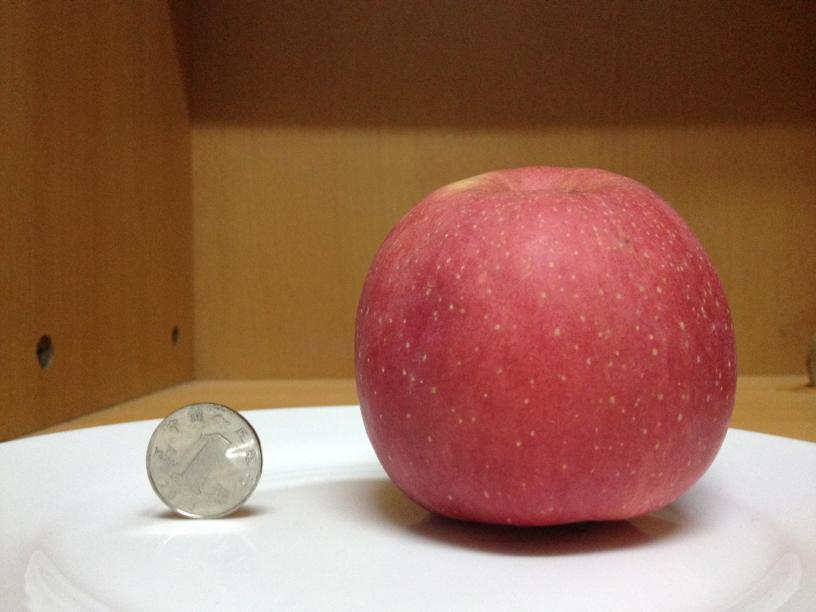apple: (349, 161, 737, 525)
coin: (141, 400, 262, 518)
